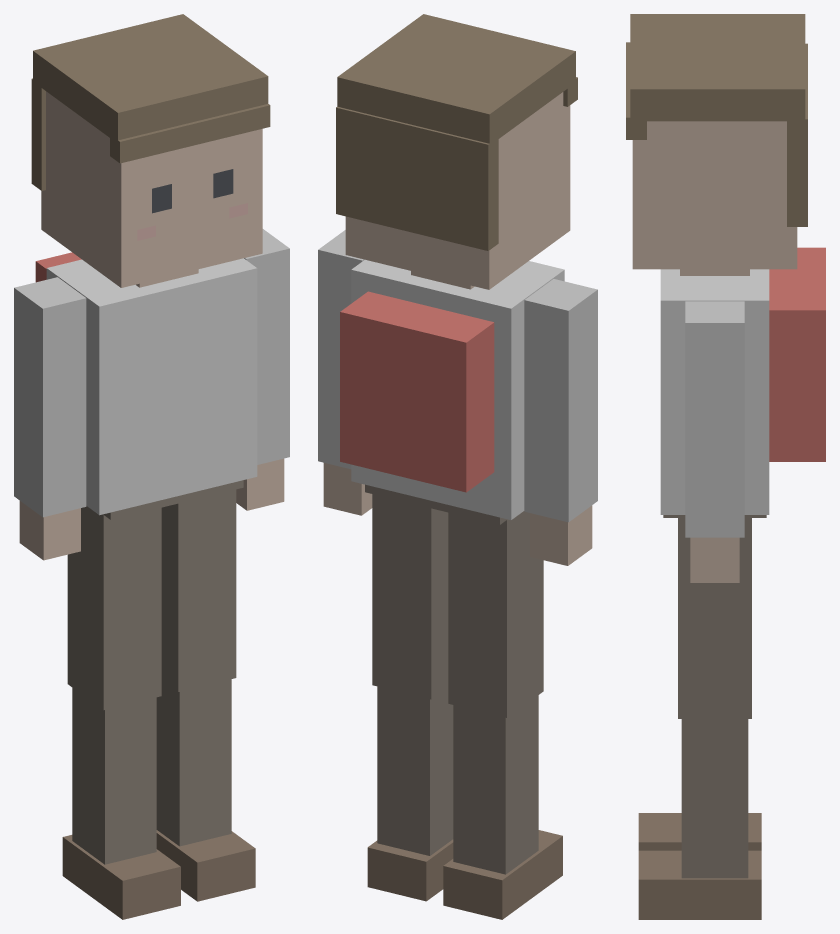
The model's file is walker_4.glb.
The picture shows the model from 3 angles, left to right: view 1: azimuth 30°, elevation 25°; view 2: azimuth 150°, elevation 25°; view 3: azimuth 270°, elevation 25°; orthographic projection. The views are drawn at different scales.
Parts seen in each view (by area): view 1: walker_4; view 2: walker_4; view 3: walker_4.
Boxes of the visible parts, x1,y1,x2,y2 form: walker_4: (14, 14, 289, 919); walker_4: (318, 14, 597, 919); walker_4: (626, 14, 825, 919).
Size of the model in its own units: 0.4165 by 1.31 by 0.2837.
